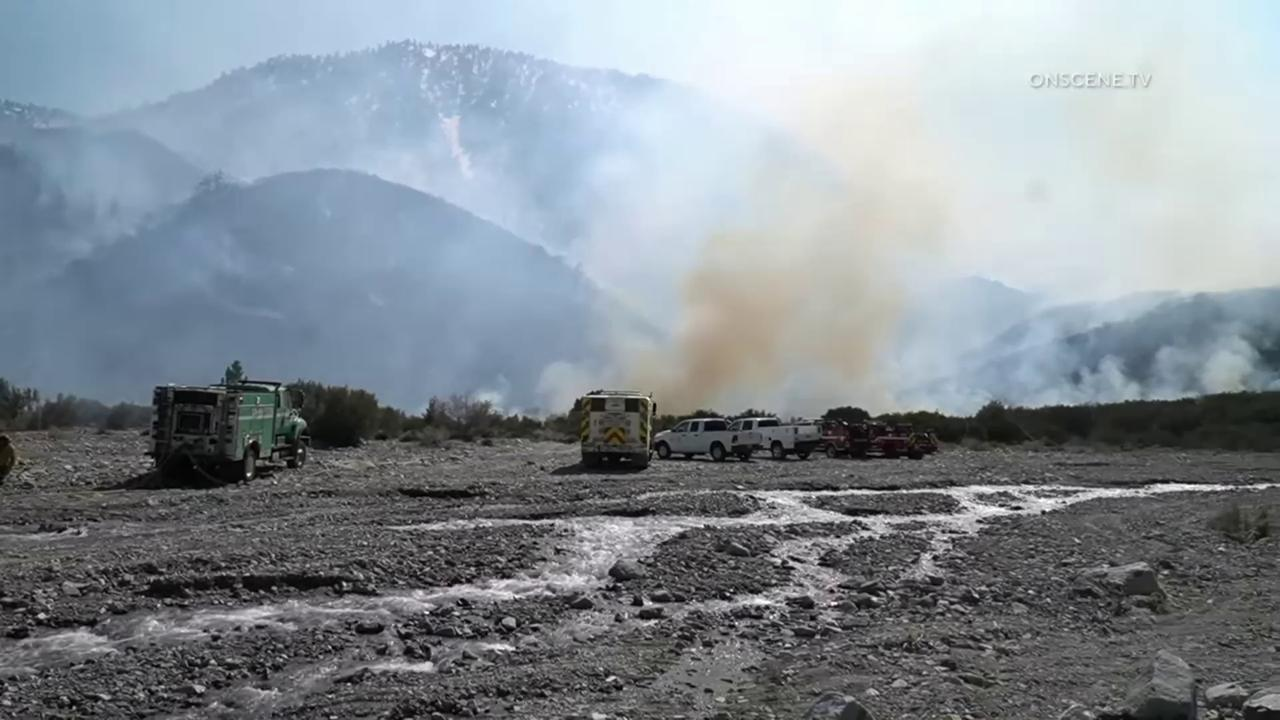smoke: (0, 0, 1280, 423)
